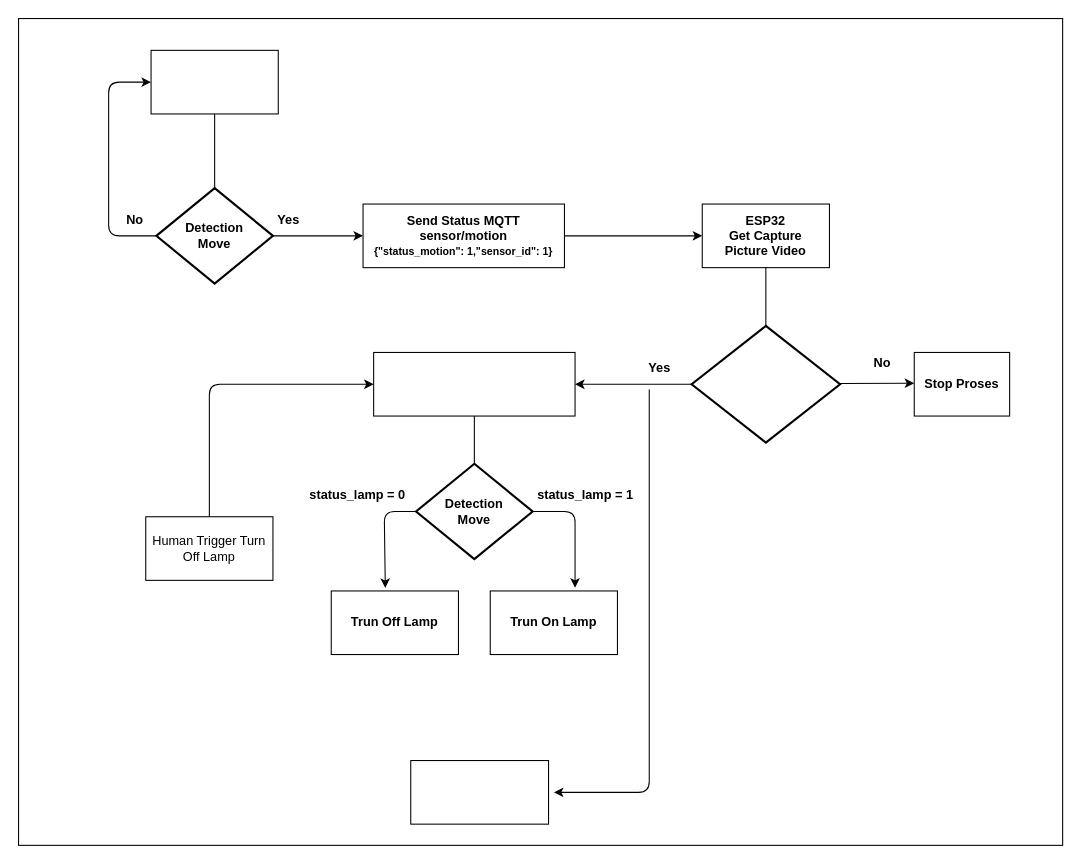
This 1081x864 diagram has some shape labels left out. The shapes that lost their labels are listed below. From the top down, each one's box as (x1, y1, x2, y2) in pixels, then its label:
(150, 49, 278, 114): Sensor Motion
(373, 351, 575, 416): Send Status MQTT lamp {status_lamp": 1,"lamp_id": 1}
(690, 324, 841, 443): Validation AI Image Detection Human
(410, 759, 549, 824): Save History Move Date Time & Foto Database
